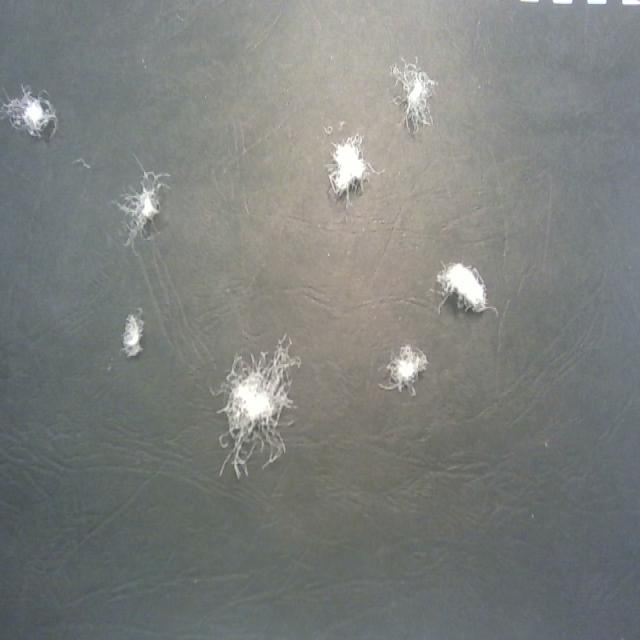feather: (112, 170, 171, 253), (389, 52, 440, 133), (433, 260, 500, 319), (325, 129, 369, 208), (0, 82, 57, 142), (377, 342, 428, 398), (118, 306, 144, 358)
